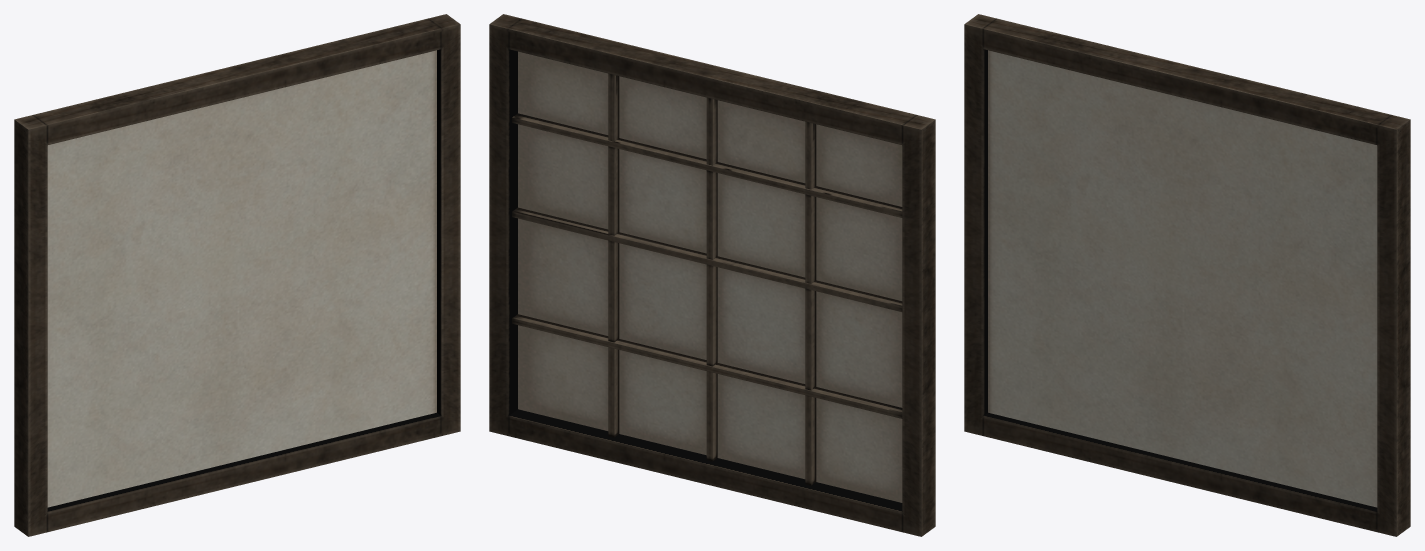
The model's file is JB_Ext_Window_A_01.fbx.
3 views of the same model, side by side, from view 1: azimuth 30°, elevation 25°; view 2: azimuth 150°, elevation 25°; view 3: azimuth 330°, elevation 25° (orthographic).
Parts seen in each view (by area): view 1: JB_Ext_Window_A_01; view 2: JB_Ext_Window_A_01; view 3: JB_Ext_Window_A_01.
Part boxes in pixels (x1=…): JB_Ext_Window_A_01: x1=14, y1=14, x2=460, y2=536; JB_Ext_Window_A_01: x1=489, y1=14, x2=935, y2=536; JB_Ext_Window_A_01: x1=964, y1=14, x2=1410, y2=536.
Size of the model in its own units: 1 by 0.9 by 0.0567.
